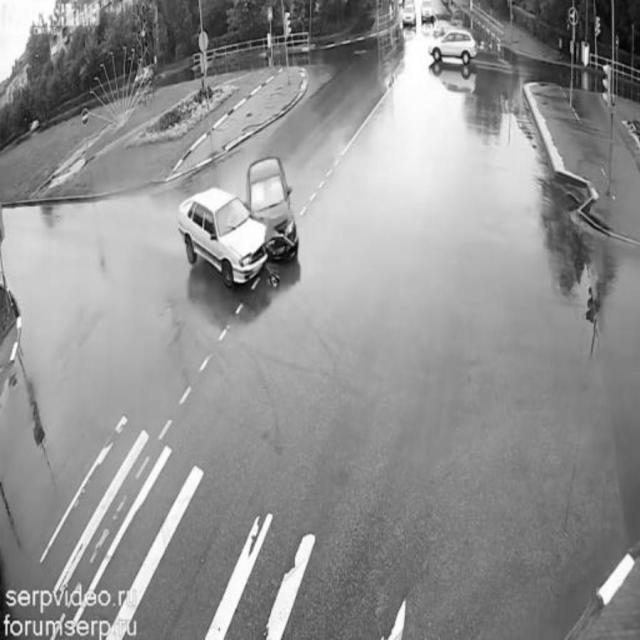accident: (178, 164, 308, 311)
vehicle: (430, 28, 480, 74), (403, 6, 419, 26), (420, 2, 436, 19)
